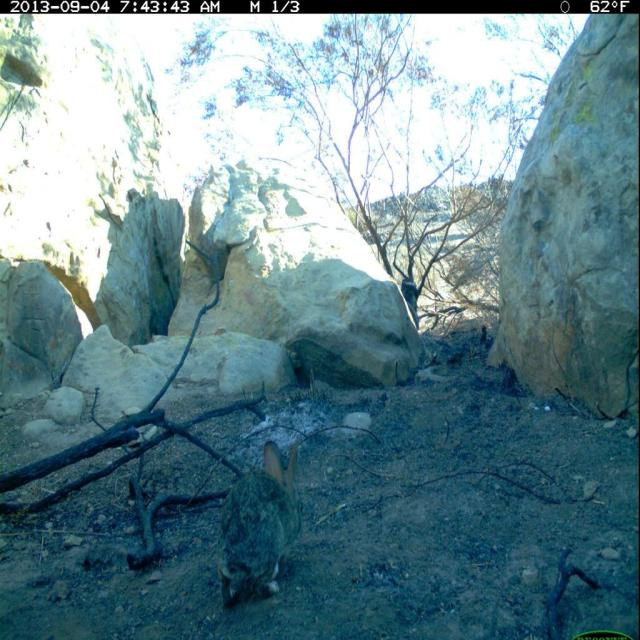rabbit: (215, 435, 309, 614)
